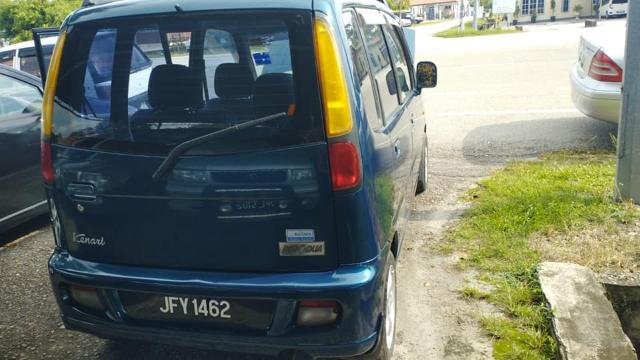License_Plate: (138, 290, 256, 329)
car: (37, 6, 448, 360)
